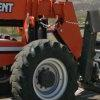Tractor: (5, 7, 100, 100)
